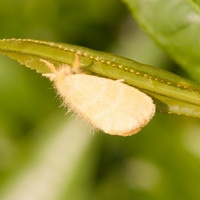insect: (40, 59, 155, 135)
